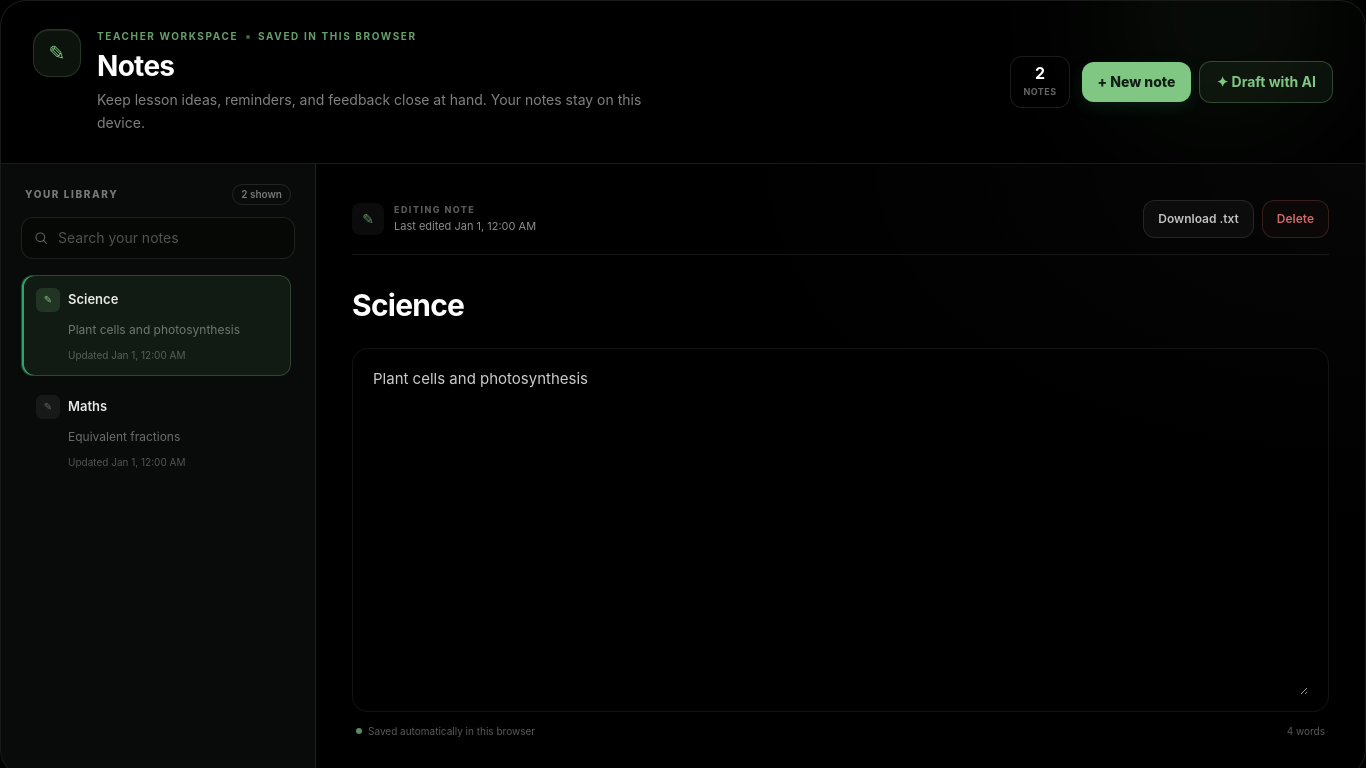
Test: Notes user workflows › searches notes by body text and allows selection from matching results
The image size is (1366, 768).
Later steps or results of the test are not shown.
Type "PHOTOSYNTHESIS" into the search field named "Search notes". click: {"x": 158, "y": 238}
box: [21,217,295,259]
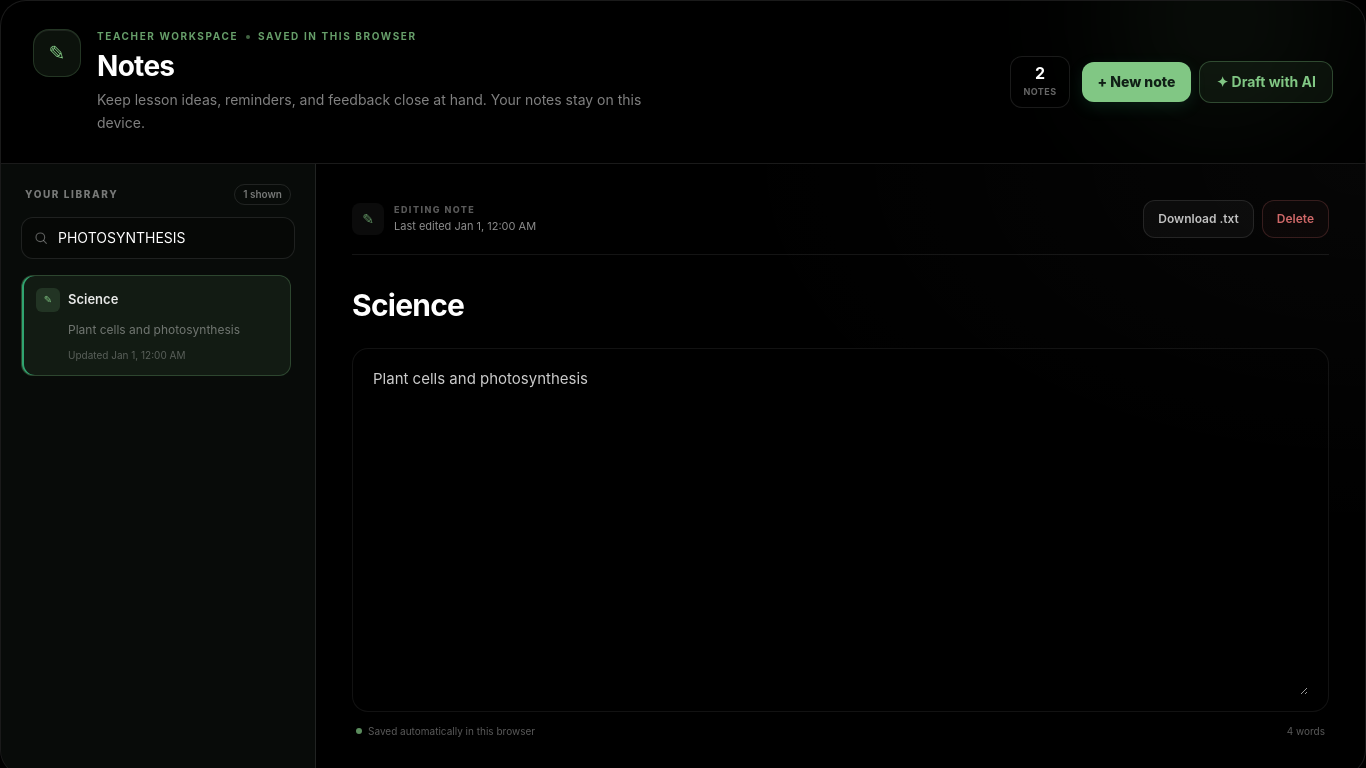
Check: the button "Science" is shown, box [21,275,291,376]
Check: the button "Maths" is gone
